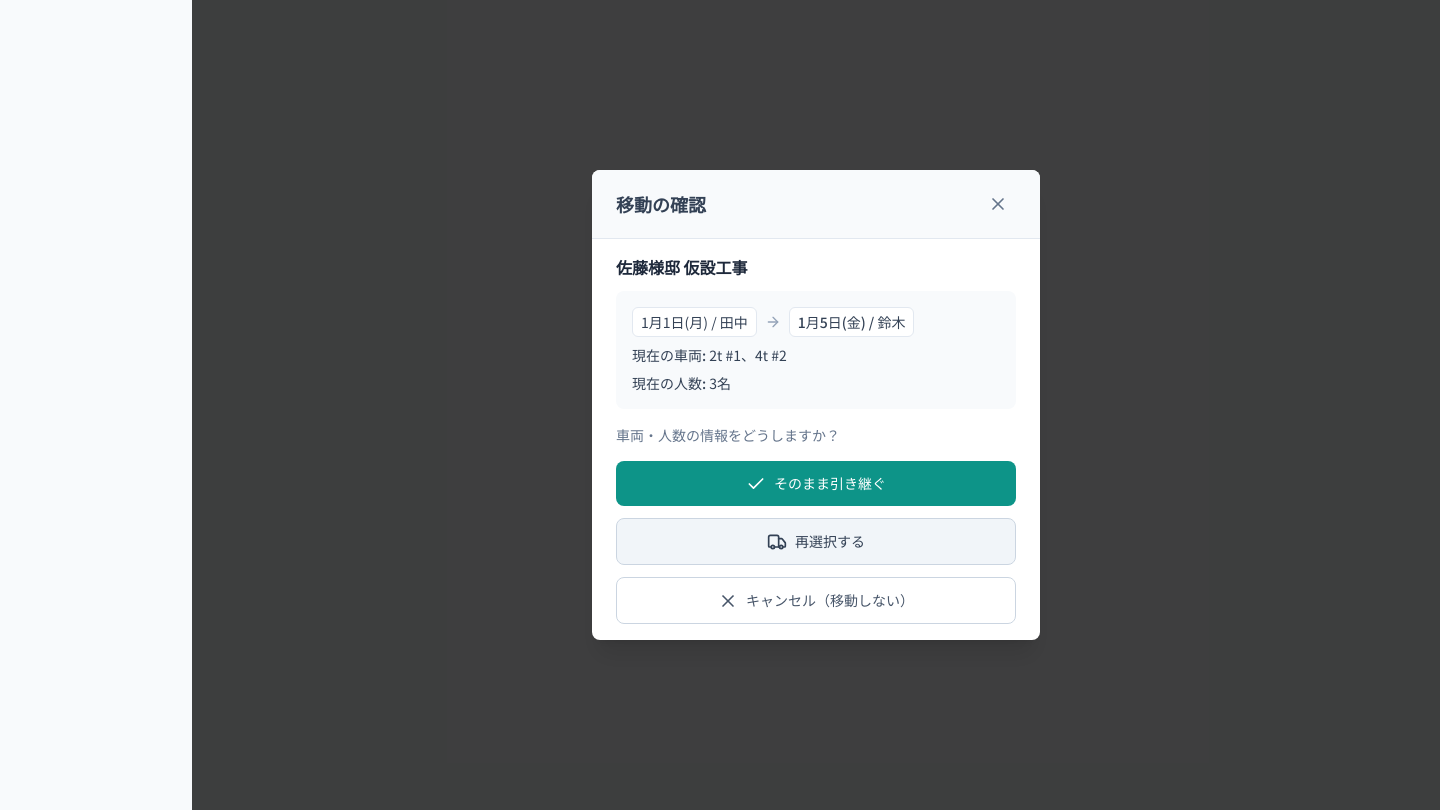
Test case: MoveConfirmModal › shows loading and disables OK while available vehicles are not loaded
Click the button "再選択する". click: click(816, 542)
box: [616,518,1016,565]
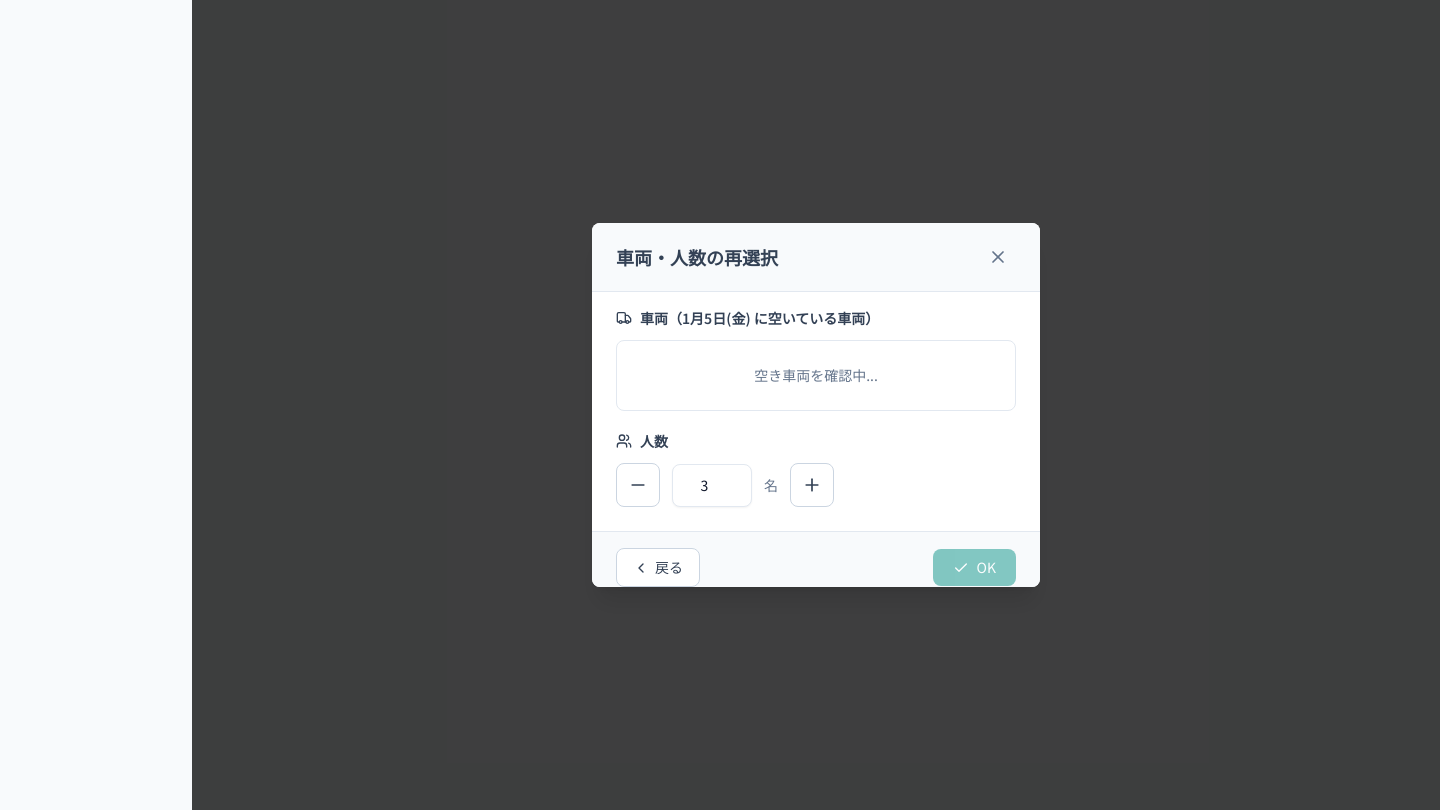
Check: the text "空き車両を確認中..." is shown, box [616,340,1016,411]
Check: the button "OK" is disabled, box [933,549,1016,586]
